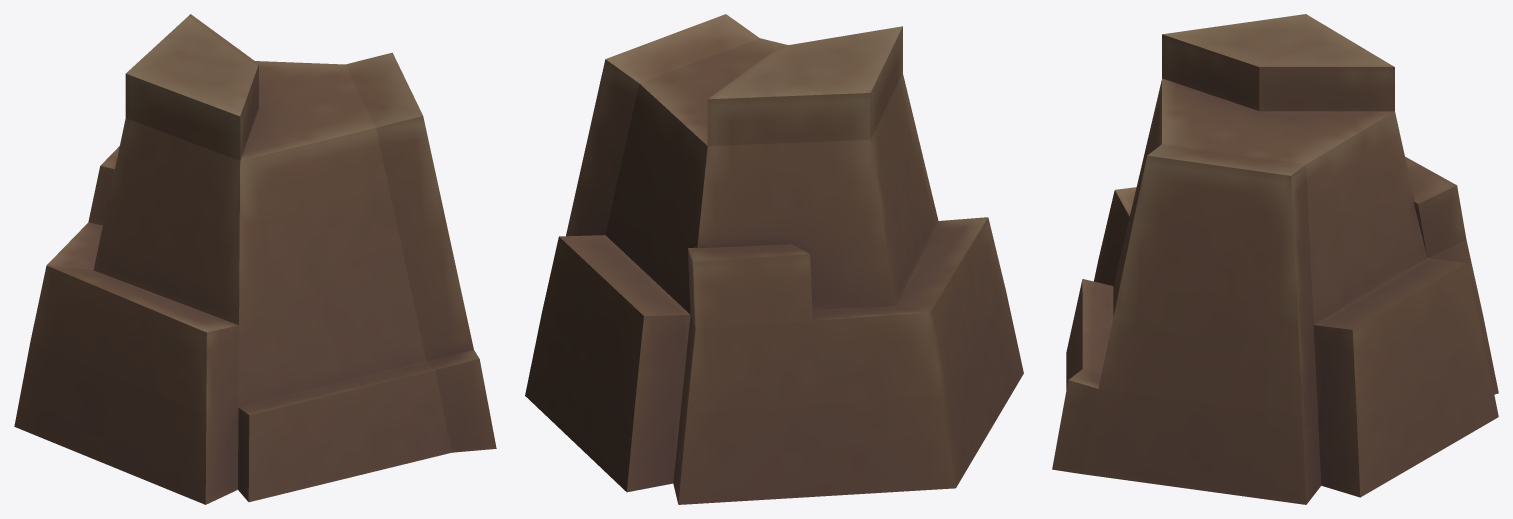
Rendered from rock1.obj.
3 renders of one model, left to right at view 1: azimuth 30°, elevation 25°; view 2: azimuth 150°, elevation 25°; view 3: azimuth 270°, elevation 25°, orthographic. The views are drawn at different scales.
Visible parts, largest first — view 1: Rock1; view 2: Rock1; view 3: Rock1.
Part boxes in pixels (x1,y1,x2,y2): Rock1: (14,14,496,504); Rock1: (525,14,1023,504); Rock1: (1052,14,1498,504).
Bounding box in the file's own units: 1.82 × 1.44 × 1.72.
1 material, 1 textured.
